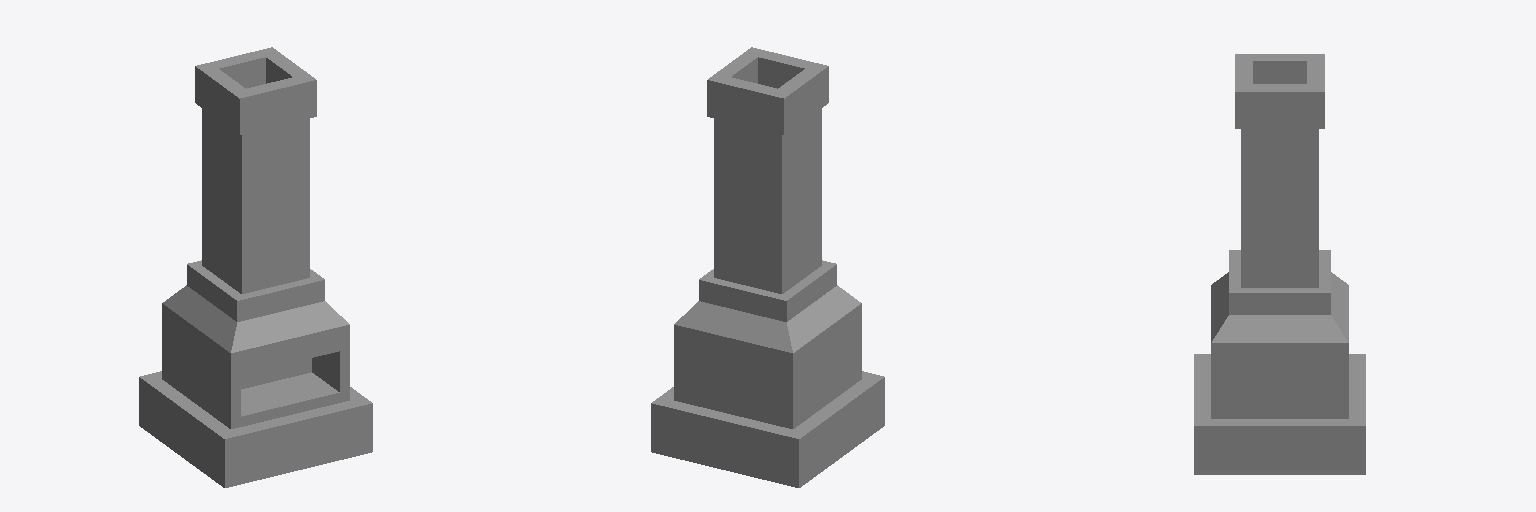
Rendered from generator.obj.
The picture shows the model from 3 angles: view 1: azimuth 30°, elevation 25°; view 2: azimuth 150°, elevation 25°; view 3: azimuth 270°, elevation 25°; orthographic projection.
Visible parts, largest first — view 1: Cube; view 2: Cube; view 3: Cube.
Part boxes in pixels (bbox=[...]): Cube: bbox=[139, 47, 372, 487]; Cube: bbox=[651, 47, 884, 487]; Cube: bbox=[1194, 54, 1365, 474].
Bounding box in the file's own units: 2.49 × 5.88 × 2.49.